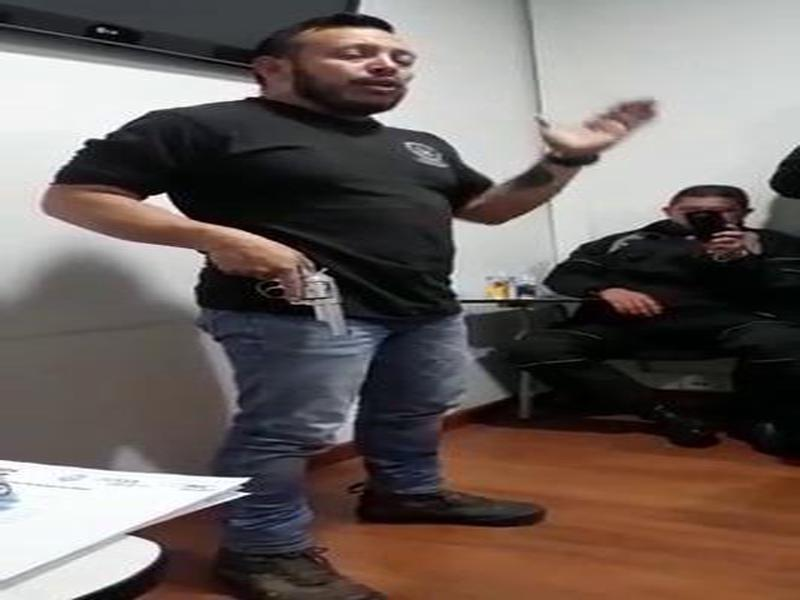Revolver: (258, 260, 362, 346)
